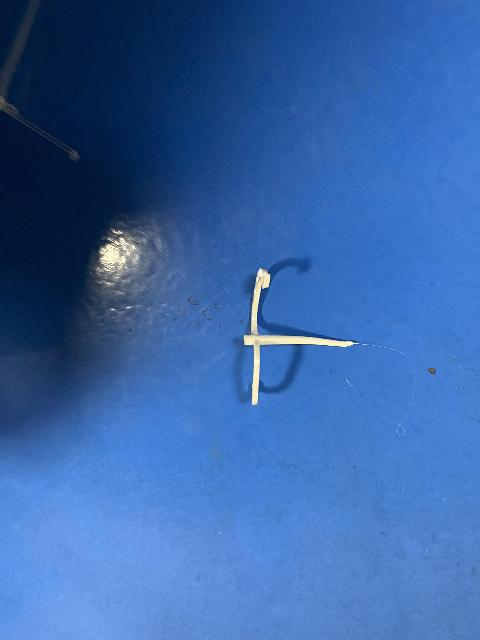Plastik: (238, 265, 362, 402)
